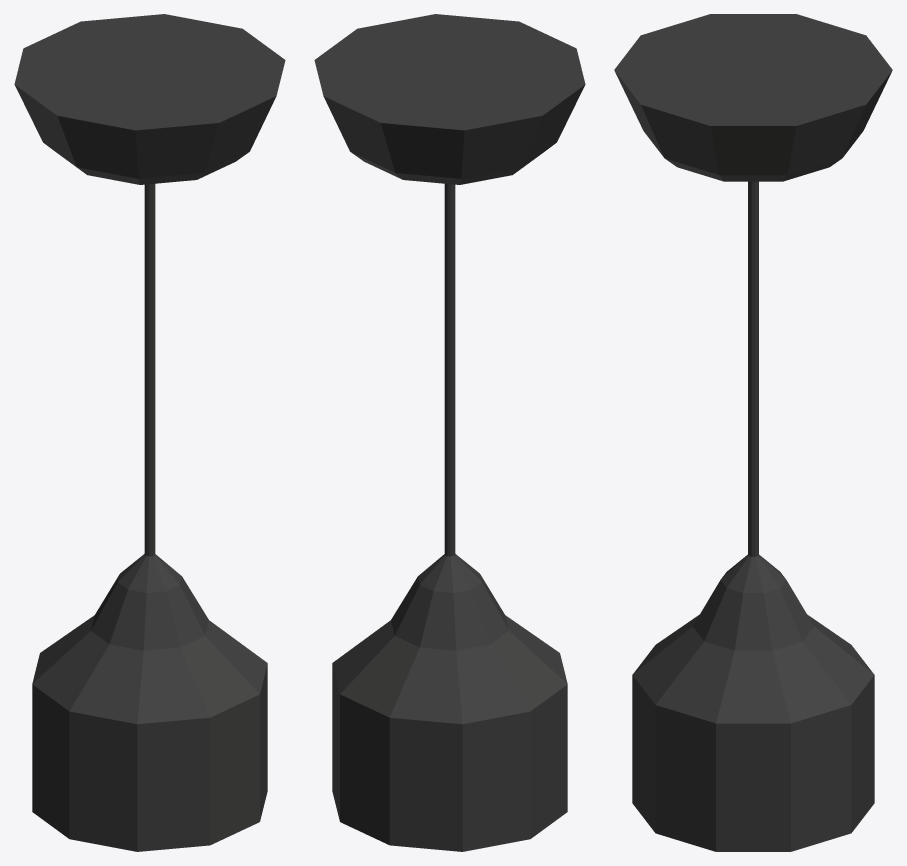
The model's file is CeilingLampV3.fbx.
The picture shows the model from 3 angles, left to right: view 1: azimuth 30°, elevation 25°; view 2: azimuth 150°, elevation 25°; view 3: azimuth 270°, elevation 25°; orthographic projection.
Parts seen in each view (by area): view 1: CeilingLampV3; view 2: CeilingLampV3; view 3: CeilingLampV3.
Boxes of the visible parts, <box> form: CeilingLampV3: <box>14,14,285,851</box>; CeilingLampV3: <box>314,14,585,851</box>; CeilingLampV3: <box>614,14,892,851</box>.
Bounding box in the file's own units: 22.67 × 70.15 × 23.83.
